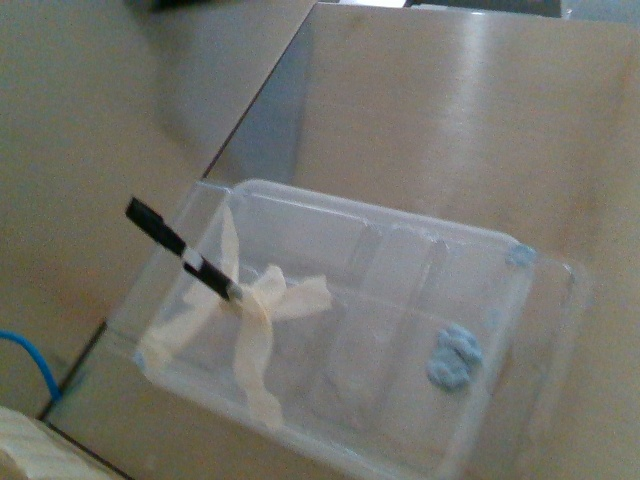test_strip: (123, 195, 203, 272)
